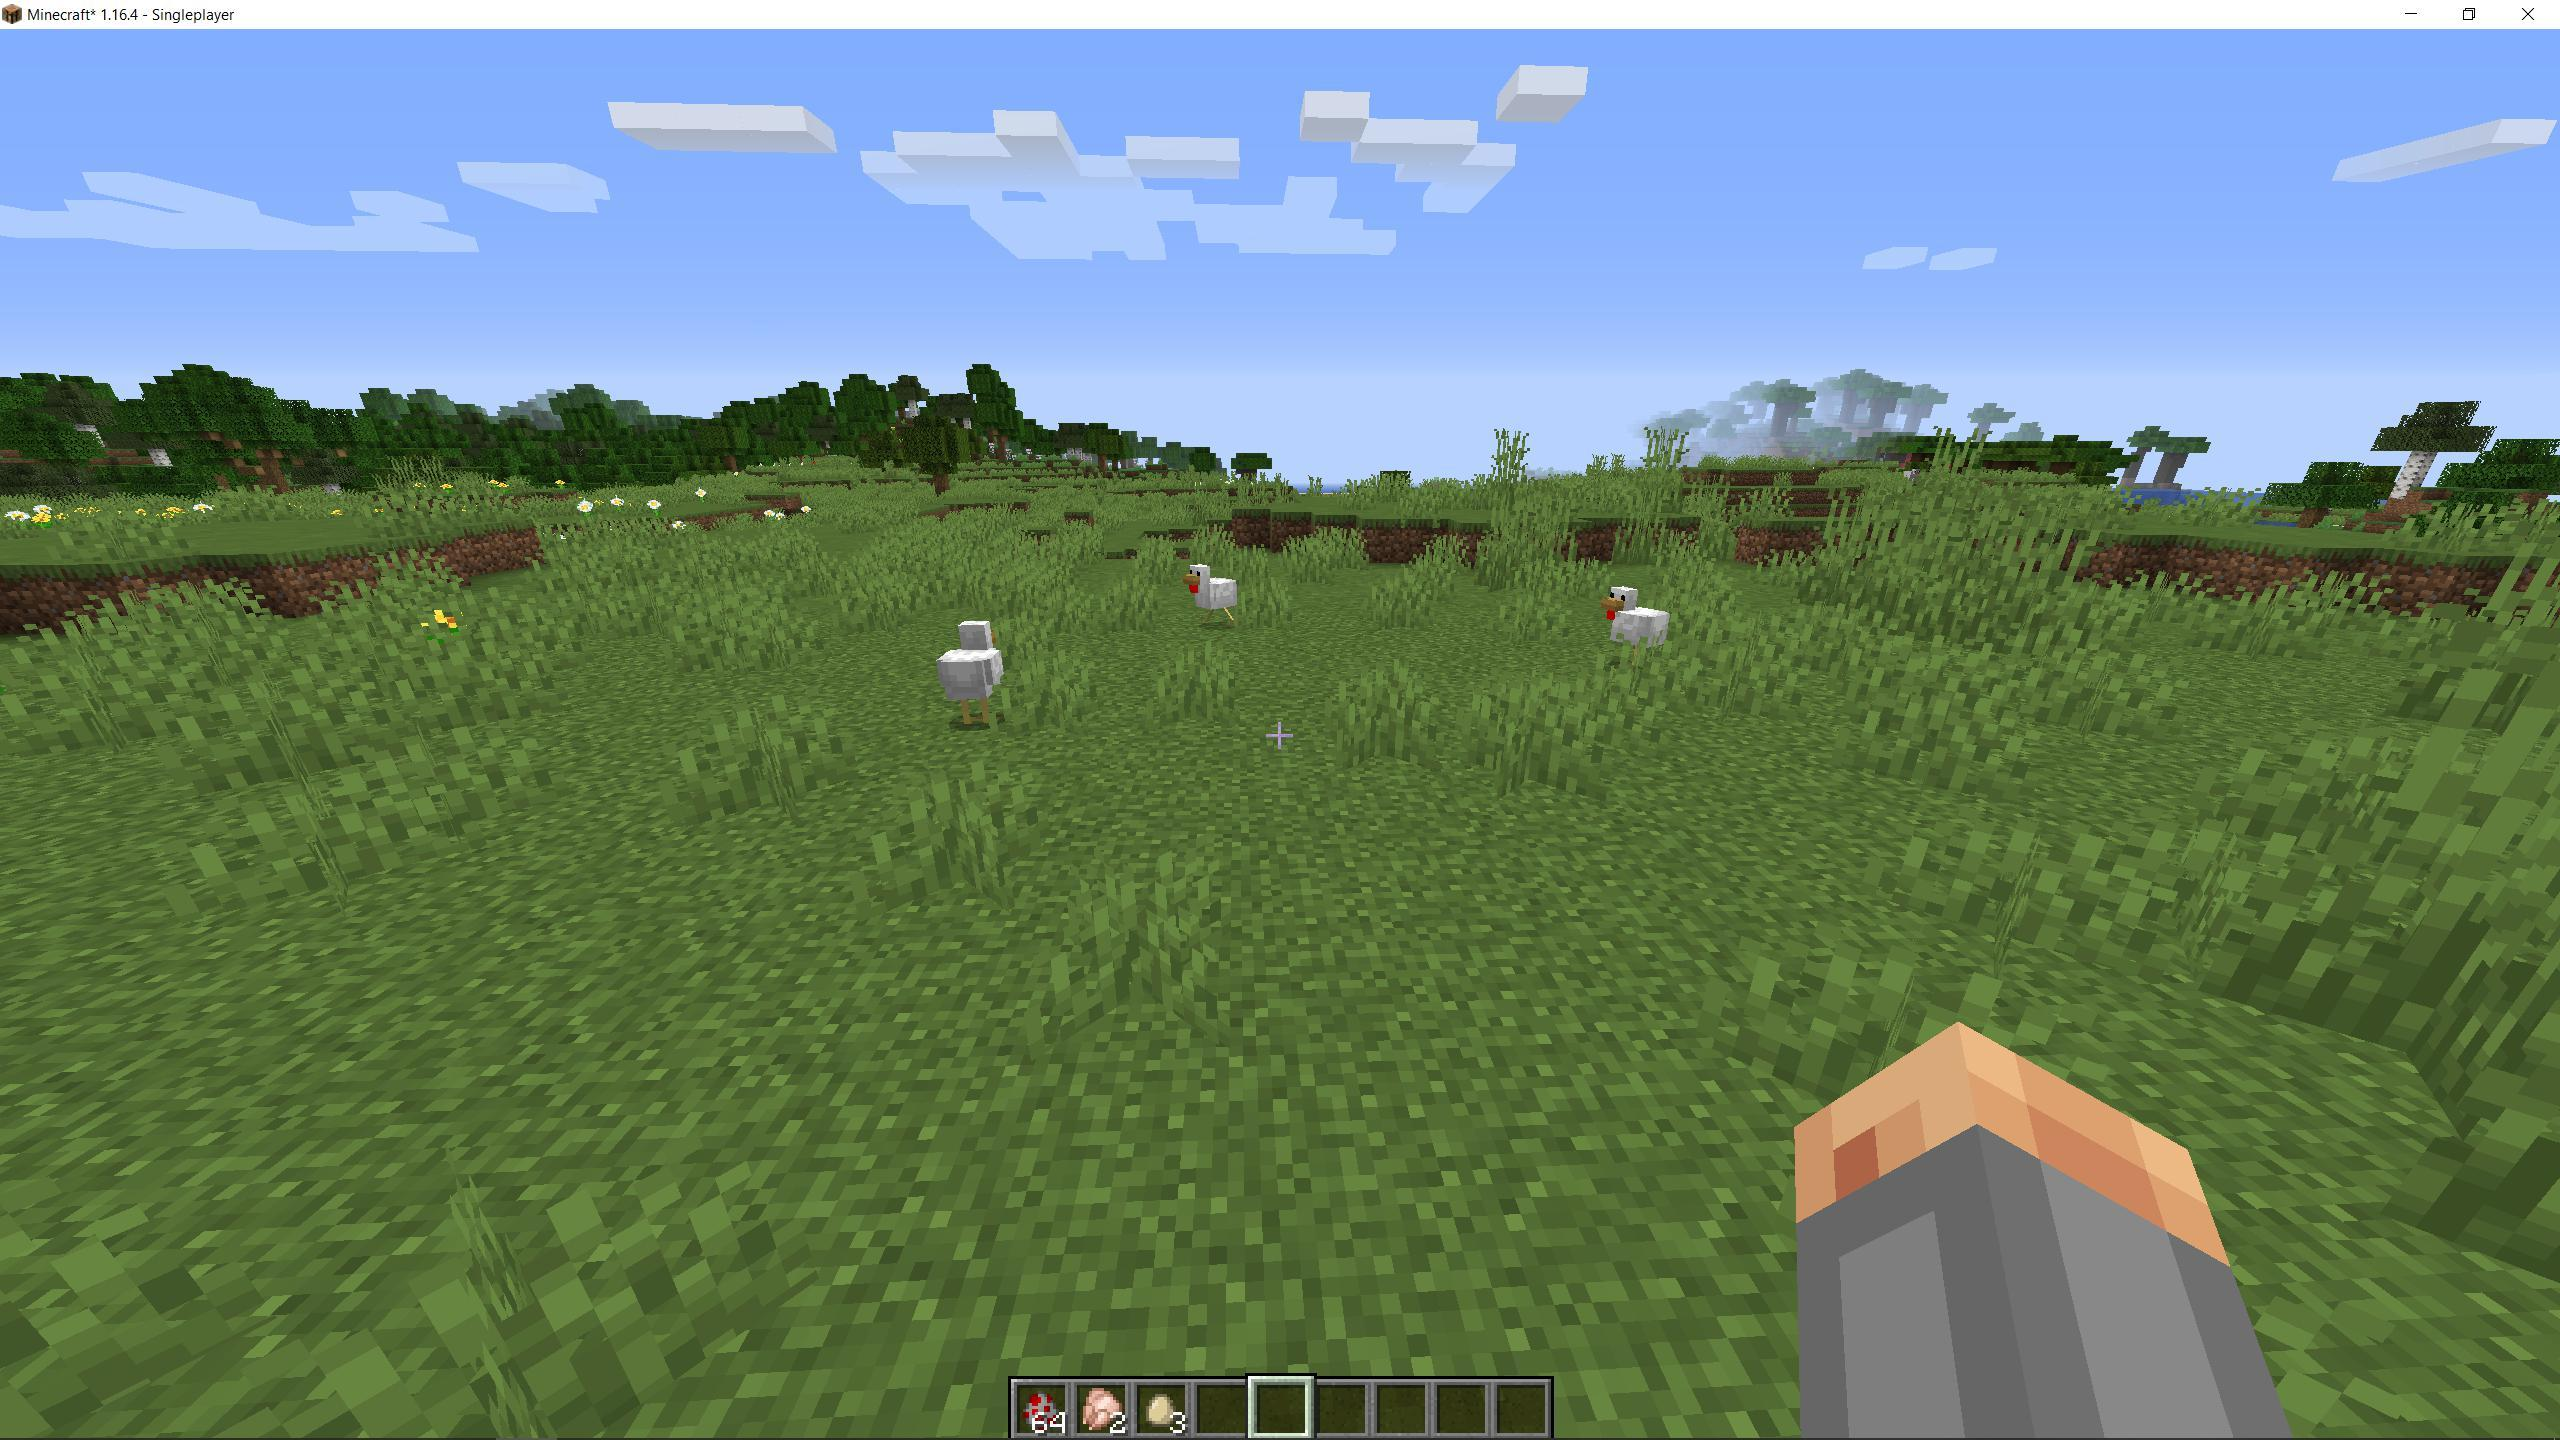chicken: (928, 614, 1018, 731), (1591, 577, 1683, 675), (1175, 554, 1254, 629)
